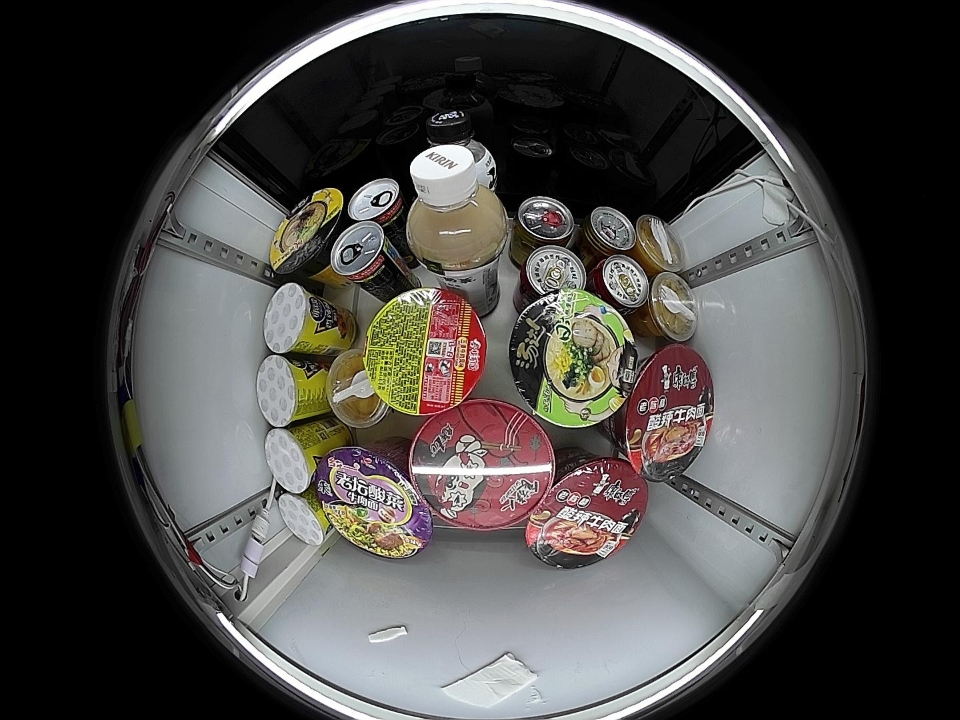heweidao3: (363, 285, 487, 417)
hongniu: (512, 195, 576, 250)
hongniu2: (579, 206, 636, 258)
kebike: (262, 283, 324, 355), (256, 354, 314, 427), (264, 426, 321, 493), (277, 489, 331, 547)
laotansuancai: (318, 448, 433, 560)
suanlafen: (408, 401, 555, 530)
suanlaniurou: (524, 455, 648, 569), (615, 346, 714, 481)
tangdaren: (508, 290, 638, 428)
tangdaren2: (269, 187, 344, 278)
wangzainiunai: (520, 245, 588, 298), (588, 255, 648, 315)
wuhounaicha: (406, 143, 507, 269)
xianguolao: (325, 351, 391, 430), (641, 273, 698, 343), (633, 214, 686, 274)
yezhi: (328, 221, 395, 286), (347, 177, 408, 230)
yuanqishui: (420, 107, 496, 176)
